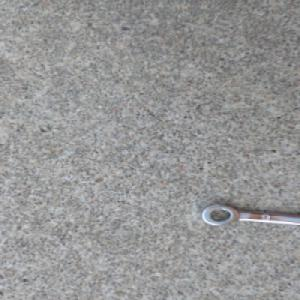Wrench: (200, 203, 300, 228)
